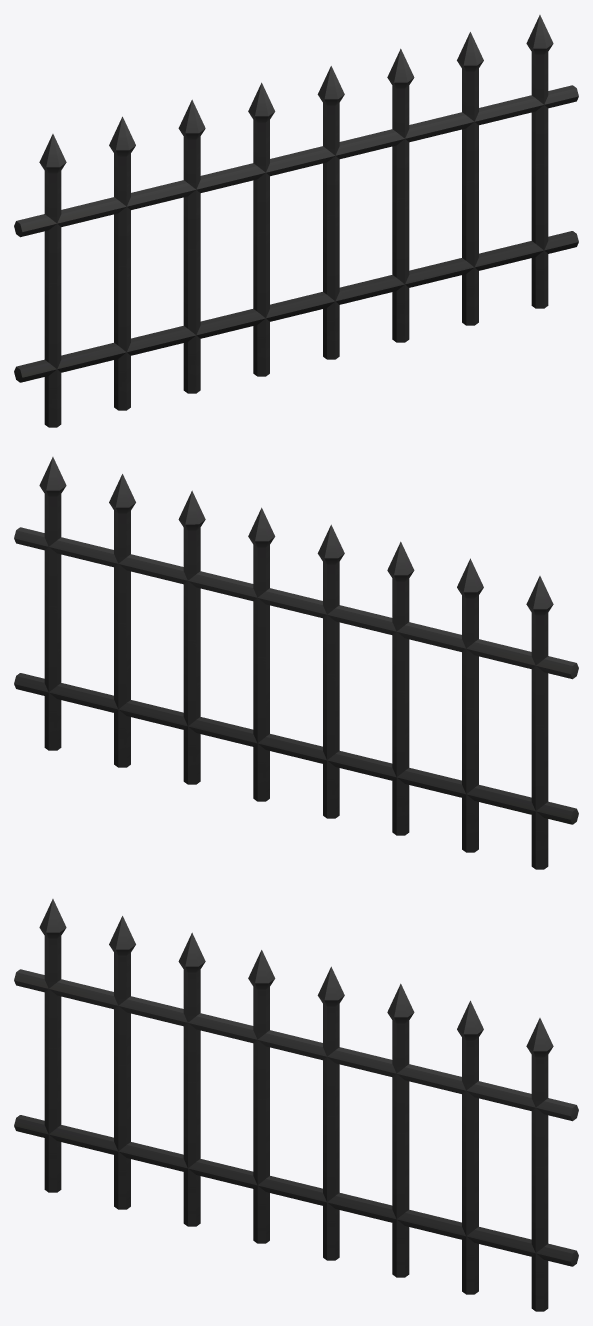
File: iron-fence.glb
3 renders of one model, top to bottom at view 1: azimuth 30°, elevation 25°; view 2: azimuth 150°, elevation 25°; view 3: azimuth 330°, elevation 25°, orthographic.
Visible parts, largest first — view 1: fence_seperate; view 2: fence_seperate; view 3: fence_seperate.
Part boxes in pixels (x1,y1,x2,y2): fence_seperate: (14,15,578,427); fence_seperate: (14,457,578,869); fence_seperate: (14,899,578,1311).
Bounding box in the file's own units: 4 × 2 × 0.1694.
1 material, 1 textured.
